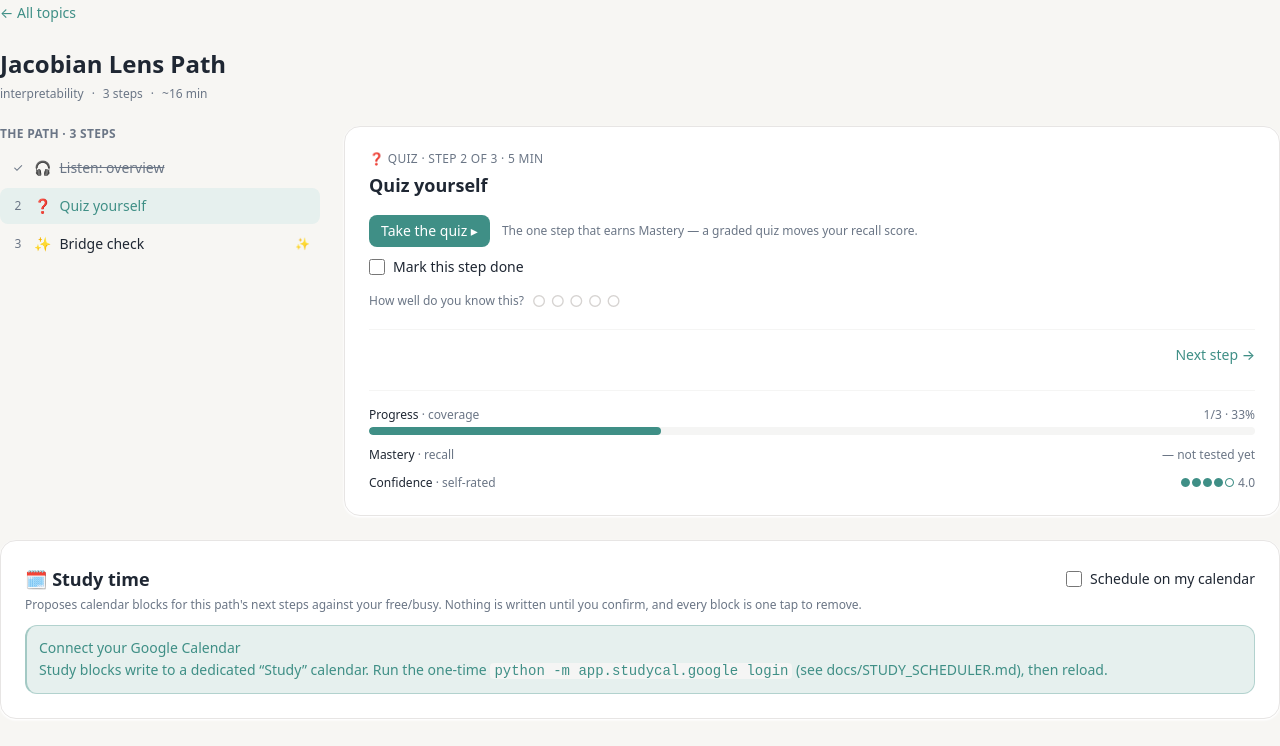
Test case: PathPlayer — outline + detail (M8 #15) › grades the bridge-check via api.gradeBridge and shows the feedback
Expected: the heading "Quiz yourself" is shown, [369,173,488,197]
# Jump to the one generated glue step (the bridge-check) from the rail.
Click the button "3 ✨ Bridge check ✨" at (102, 244), box [0,226,320,262]
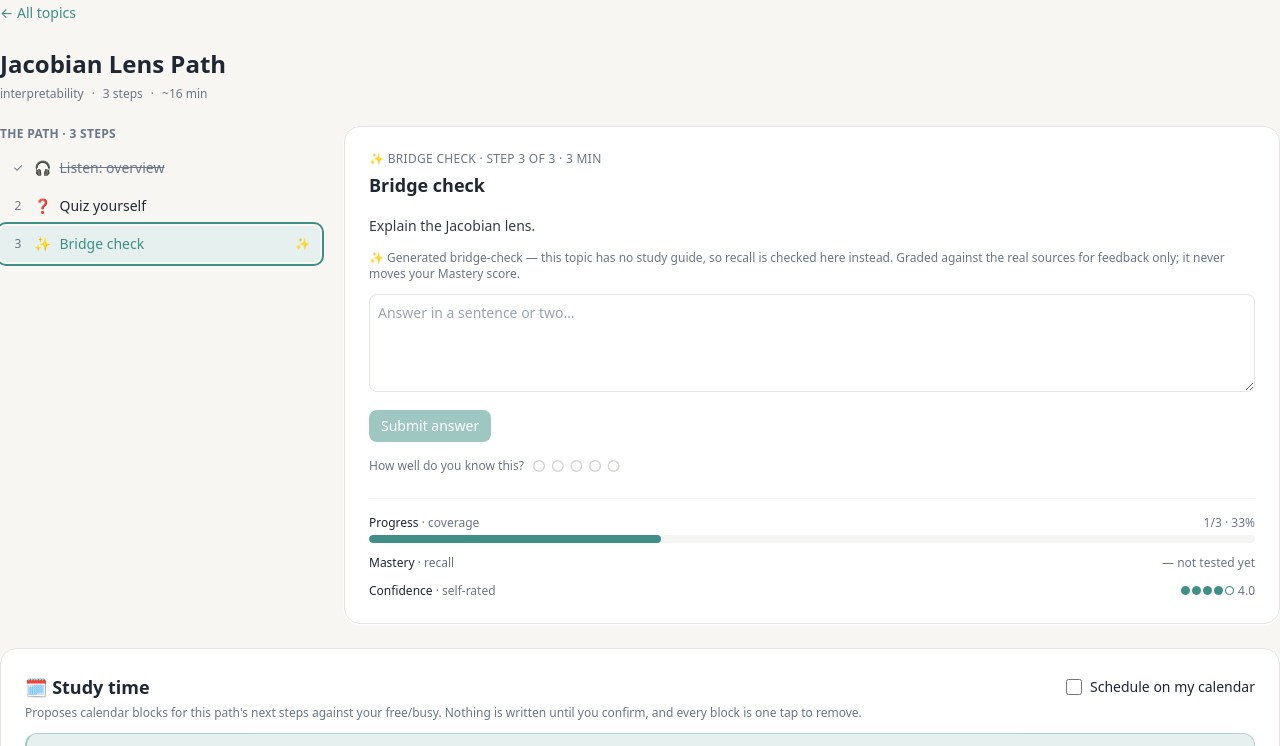
Type "It reads a model as local linear maps." into the text box named "Your bridge-check answer" at (812, 343), box [369,294,1255,392]
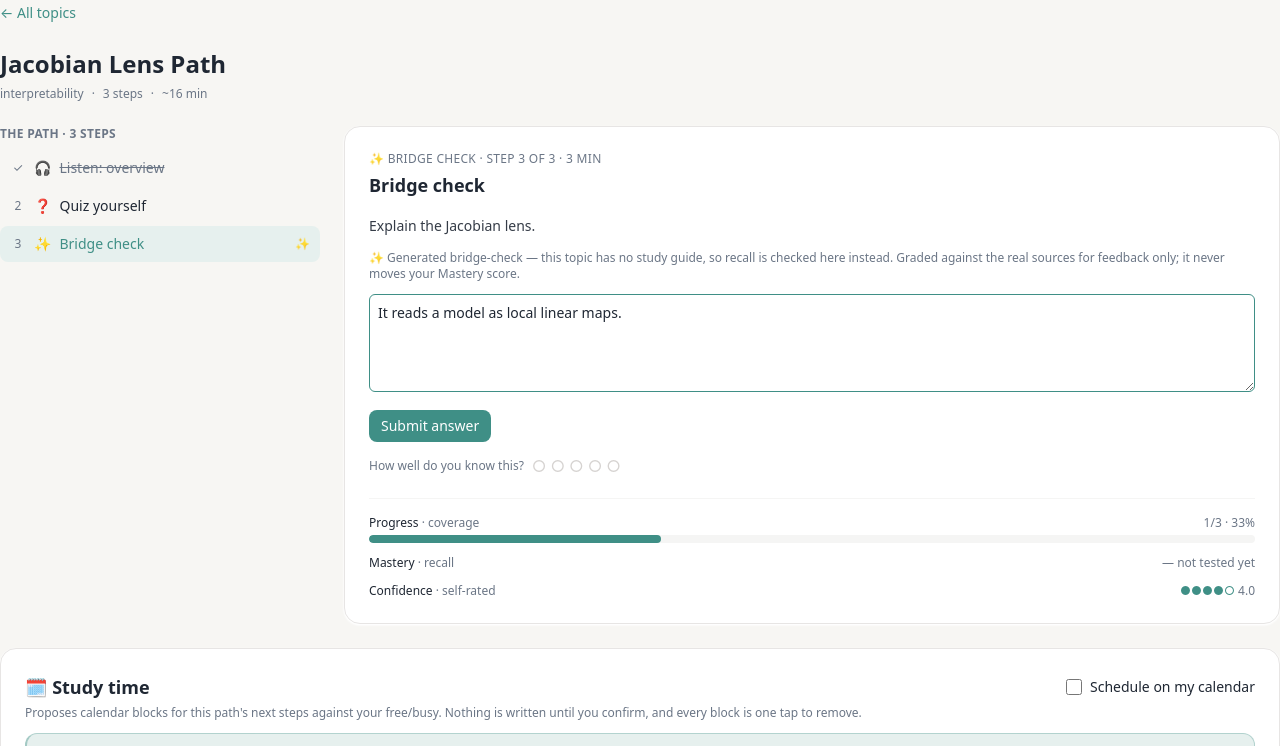
Click the button "Submit answer" at (430, 426), box [369,410,491,442]
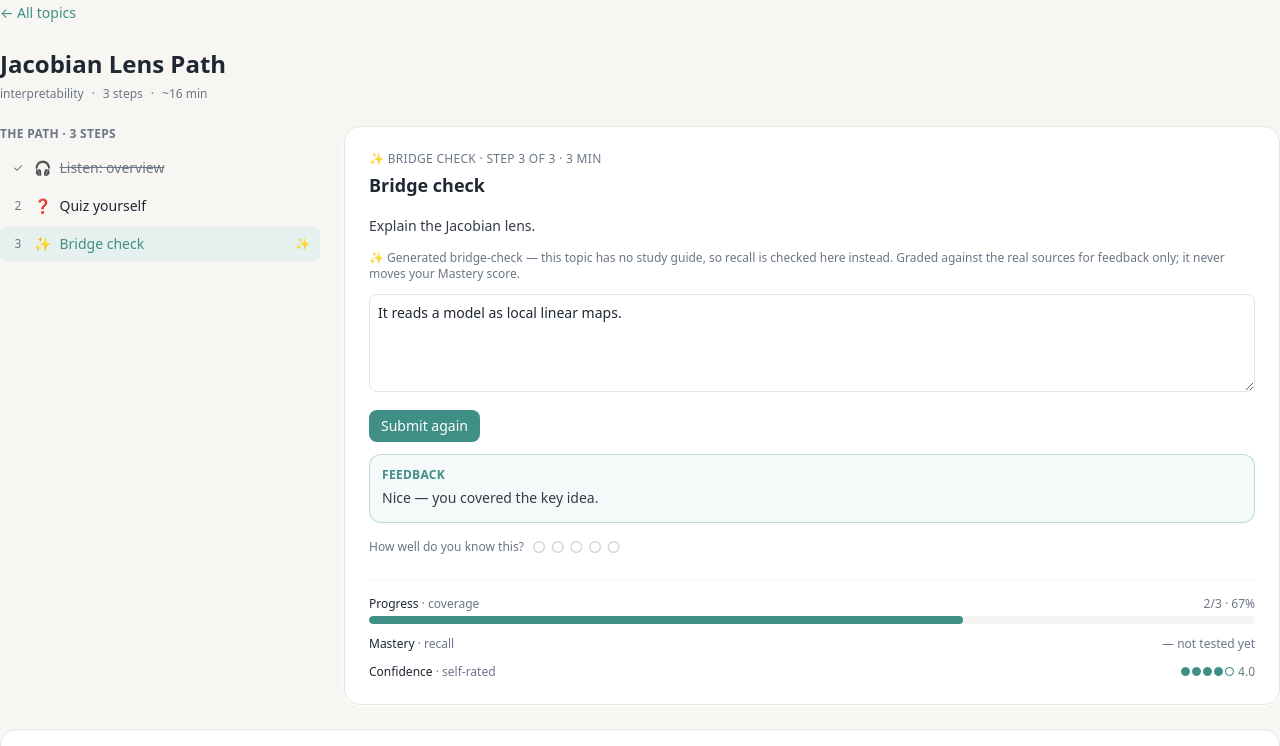
Result: the text "Nice — you covered the key idea." is shown at [382,488,598,507]
